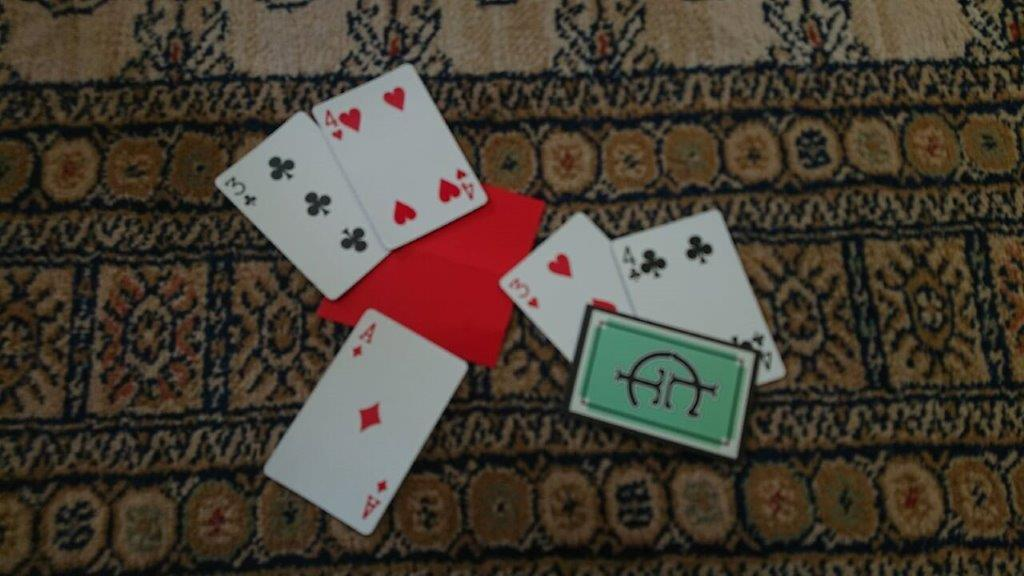3C: (221, 174, 259, 212)
3H: (505, 274, 545, 312)
4C: (619, 240, 645, 286)
4H: (321, 105, 347, 143)
AD: (349, 319, 378, 361)
